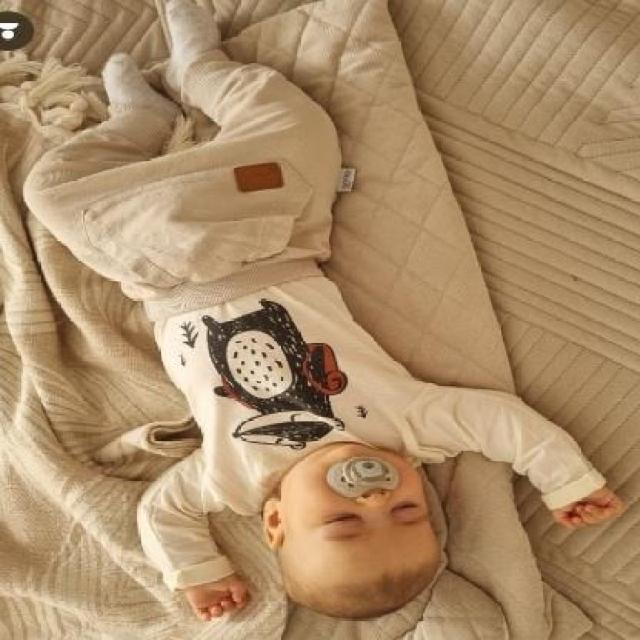baby: (26, 4, 619, 624)
